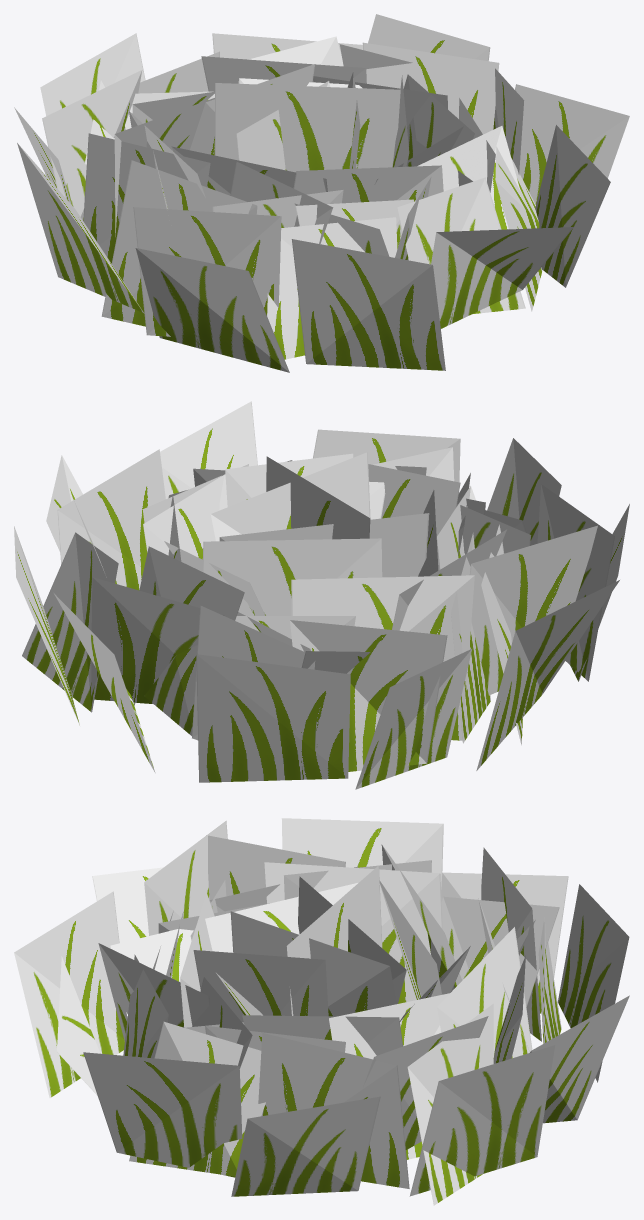
Rendered from Cam_AR_grass_001.FBX.
3 views of the same model, one above another, from view 1: azimuth 30°, elevation 25°; view 2: azimuth 150°, elevation 25°; view 3: azimuth 270°, elevation 25° (orthographic). The views are drawn at different scales.
Parts seen in each view (by area): view 1: AR_grass_001; view 2: AR_grass_001; view 3: AR_grass_001.
Part boxes in pixels (x1,y1,x2,y2): AR_grass_001: [14, 14, 629, 372]; AR_grass_001: [14, 401, 629, 789]; AR_grass_001: [14, 818, 629, 1205].
Bounding box in the file's own units: 109 × 37.74 × 104.
